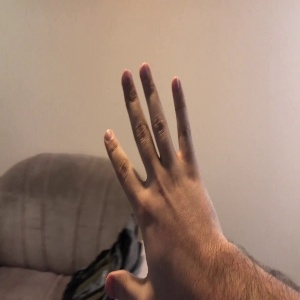hand: (104, 61, 227, 298)
